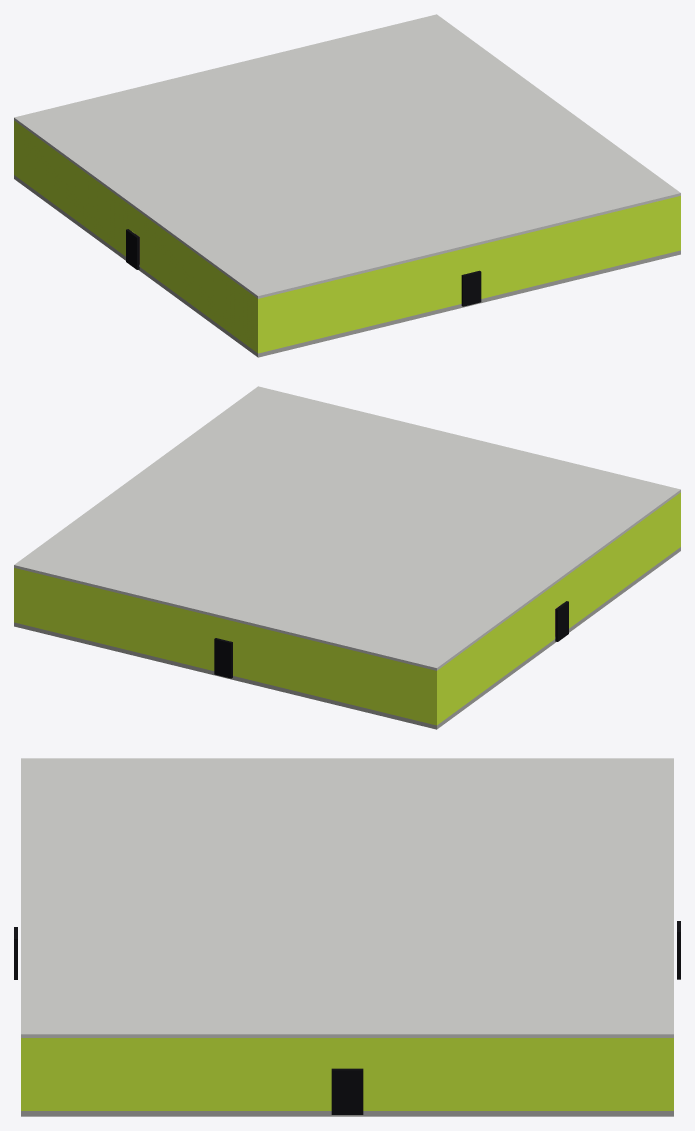
Rendered from rdwe_crossroads.glb.
The picture shows the model from 3 angles, top to bottom: view 1: azimuth 30°, elevation 25°; view 2: azimuth 150°, elevation 25°; view 3: azimuth 270°, elevation 25°; orthographic projection. The views are drawn at different scales.
Visible parts, largest first — view 1: Room_Ceiling, Room_Wall_S_1, Room_Wall_S_3, Room_Wall_W_3, Room_Wall_W_1, Room_Floor, Beyond_south; view 2: Room_Ceiling, Room_Wall_N_1, Room_Wall_N_3, Room_Wall_W_1, Room_Wall_W_3, Room_Floor, Beyond_north; view 3: Room_Ceiling, Room_Wall_E_1, Room_Wall_E_3, Room_Floor, Beyond_east, Room_Wall_E_2.
Boxes of the visible parts, x1,y1,x2,y2 form: Room_Ceiling: (14, 14, 680, 298); Room_Wall_S_1: (256, 249, 463, 353); Room_Wall_S_3: (475, 196, 680, 298); Room_Wall_W_3: (140, 212, 256, 351); Room_Wall_W_1: (15, 122, 134, 256); Room_Floor: (14, 175, 680, 357); Beyond_south: (461, 270, 481, 306); Room_Ceiling: (14, 386, 680, 670); Room_Wall_N_1: (231, 621, 438, 725); Room_Wall_N_3: (14, 568, 219, 670); Room_Wall_W_1: (438, 584, 554, 723); Room_Wall_W_3: (560, 494, 679, 628); Room_Floor: (14, 547, 680, 729); Beyond_north: (214, 638, 232, 678); Room_Ceiling: (21, 758, 673, 1037); Room_Wall_E_1: (358, 1038, 669, 1110); Room_Wall_E_3: (25, 1038, 336, 1110); Room_Floor: (21, 1111, 673, 1116); Beyond_east: (331, 1068, 363, 1114); Room_Wall_E_2: (336, 1038, 358, 1068).
Size of the model in its own units: 33.1 by 4.5 by 33.1.
